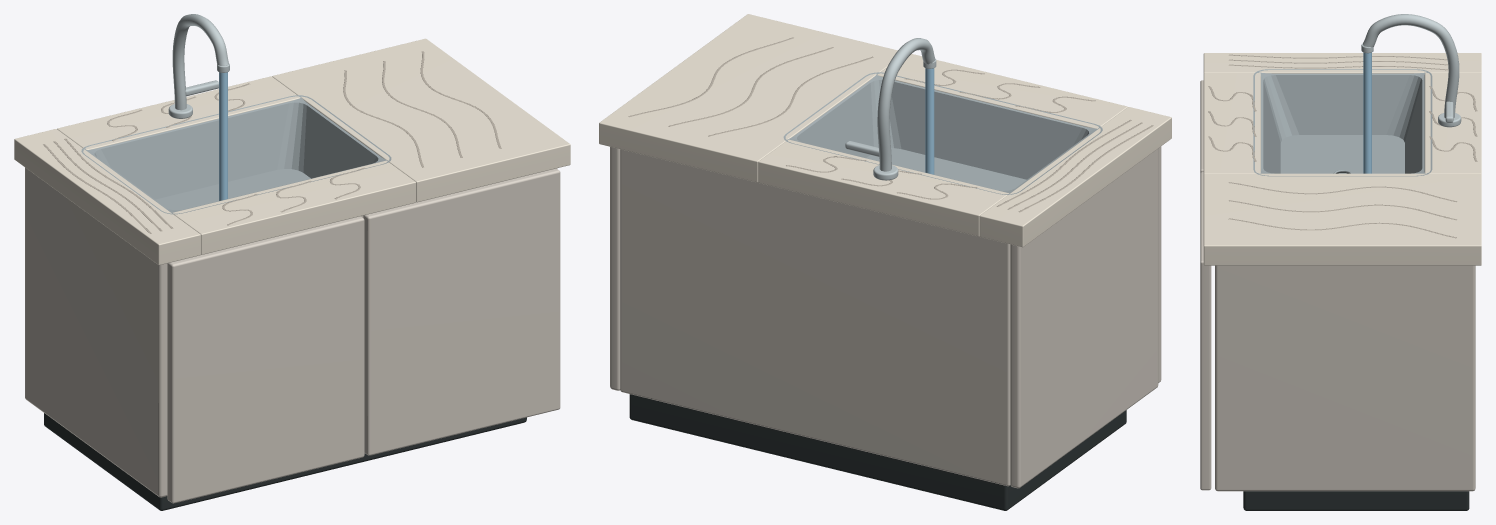
The model's file is kitchenModernSinkWhite.glb.
The picture shows the model from 3 angles, left to right: view 1: azimuth 30°, elevation 25°; view 2: azimuth 150°, elevation 25°; view 3: azimuth 270°, elevation 25°; orthographic projection. The views are drawn at different scales.
Visible parts, largest first — view 1: Handleless sink cabinet door, Handleless sink cabinet door.001, Sink cabinet side, Thick stone worktop.001, Recessed sink bowl, Thick stone worktop.002, Thick stone worktop, Thick stone worktop.003, Recessed kitchen plinth, Curved mixer tap, Interaction water; view 2: Sink cabinet back, Sink cabinet side, Thick stone worktop.001, Recessed sink bowl, Recessed kitchen plinth, Thick stone worktop.003, Thick stone worktop, Thick stone worktop.002, Sink cabinet side.001, Curved mixer tap, Interaction water, Handleless sink cabinet door; view 3: Sink cabinet side.001, Thick stone worktop.001, Recessed sink bowl, Thick stone worktop.002, Thick stone worktop, Thick stone worktop.003, Recessed kitchen plinth, Handleless sink cabinet door.001, Curved mixer tap, Interaction water, Fine stone vein.004, Fine stone vein.003 (+5 smaller).
Part boxes in pixels (x1,y1,x2,y2): Handleless sink cabinet door: (167,216,364,503); Handleless sink cabinet door.001: (363,168,560,455); Sink cabinet side: (25,167,167,497); Thick stone worktop.001: (272,38,570,202); Recessed sink bowl: (81,95,391,214); Thick stone worktop.002: (172,160,415,254); Thick stone worktop: (14,129,200,265); Thick stone worktop.003: (57,76,300,149); Recessed kitchen plinth: (44,413,526,510); Curved mixer tap: (172,14,228,110); Interaction water: (219,72,227,200); Sink cabinet back: (620,149,1010,486); Sink cabinet side: (1010,149,1158,488); Thick stone worktop.001: (599,14,897,182); Recessed sink bowl: (783,72,1102,194); Recessed kitchen plinth: (629,394,1126,510); Thick stone worktop.003: (758,139,1008,236); Thick stone worktop: (979,107,1171,247); Thick stone worktop.002: (877,54,1127,128); Sink cabinet side.001: (610,147,620,390); Curved mixer tap: (877,38,935,171); Interaction water: (925,68,934,174); Handleless sink cabinet door: (1158,146,1161,382); Sink cabinet side.001: (1215,265,1475,491); Thick stone worktop.001: (1203,173,1481,265); Recessed sink bowl: (1253,69,1432,176); Thick stone worktop.002: (1203,73,1260,173); Thick stone worktop: (1203,53,1481,73); Thick stone worktop.003: (1424,73,1481,173); Recessed kitchen plinth: (1243,491,1469,510); Handleless sink cabinet door.001: (1200,172,1211,490); Curved mixer tap: (1363,14,1459,117); Interaction water: (1363,52,1371,173); Fine stone vein.004: (1228,200,1456,220); Fine stone vein.003: (1228,182,1456,201).
Size of the model in its own units: 1.84 by 1.71 by 1.13.
